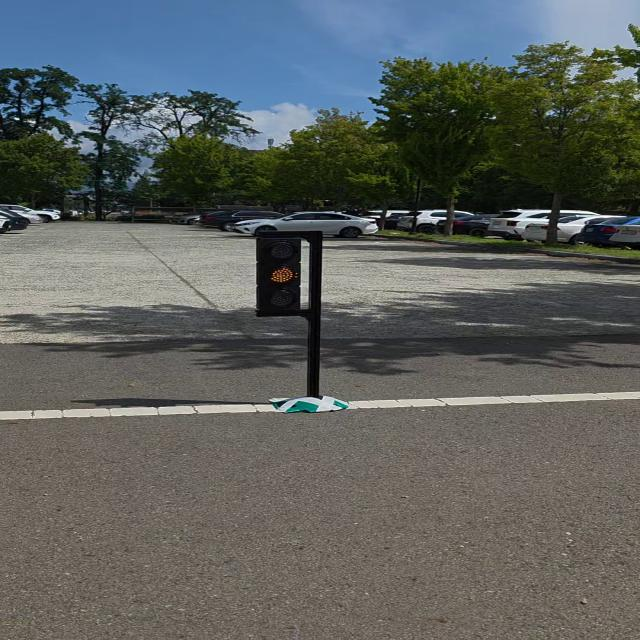yellow: (255, 238, 309, 316)
